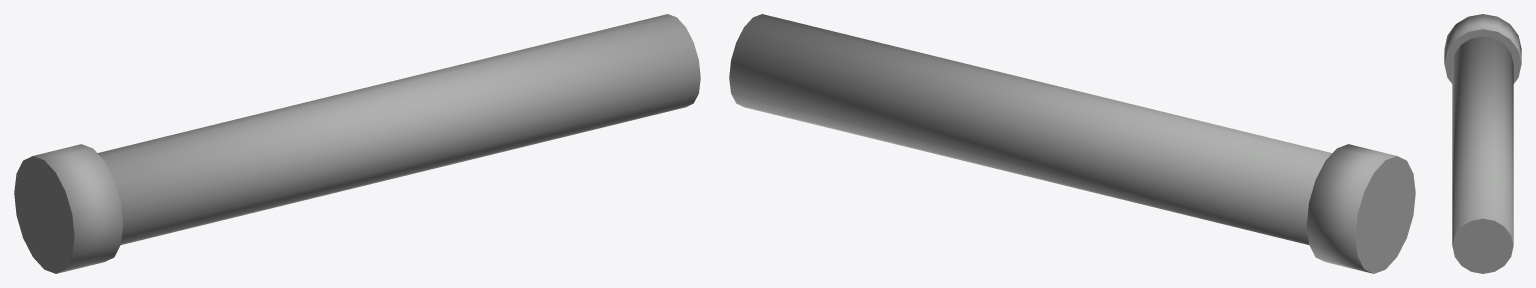
Rendered from pipe_m02.obj.
3 renders of one model, left to right at view 1: azimuth 30°, elevation 25°; view 2: azimuth 150°, elevation 25°; view 3: azimuth 270°, elevation 25°, orthographic. The views are drawn at different scales.
Visible parts, largest first — view 1: pipe2, cap; view 2: pipe2, cap; view 3: pipe2, cap.
Boxes of the visible parts, x1,y1,x2,y2 form: pipe2: [97, 14, 700, 244]; cap: [14, 144, 123, 273]; pipe2: [729, 14, 1332, 244]; cap: [1306, 144, 1415, 273]; pipe2: [1452, 36, 1513, 273]; cap: [1444, 14, 1521, 83].
Bounding box in the file's own units: 0.52 × 0.086 × 0.086.
1 material, 1 textured.
